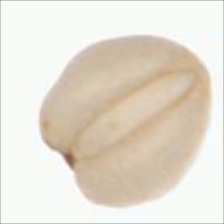L5: (73, 68, 198, 161), (38, 117, 85, 190), (184, 45, 214, 94)
L6: (37, 33, 214, 209)
